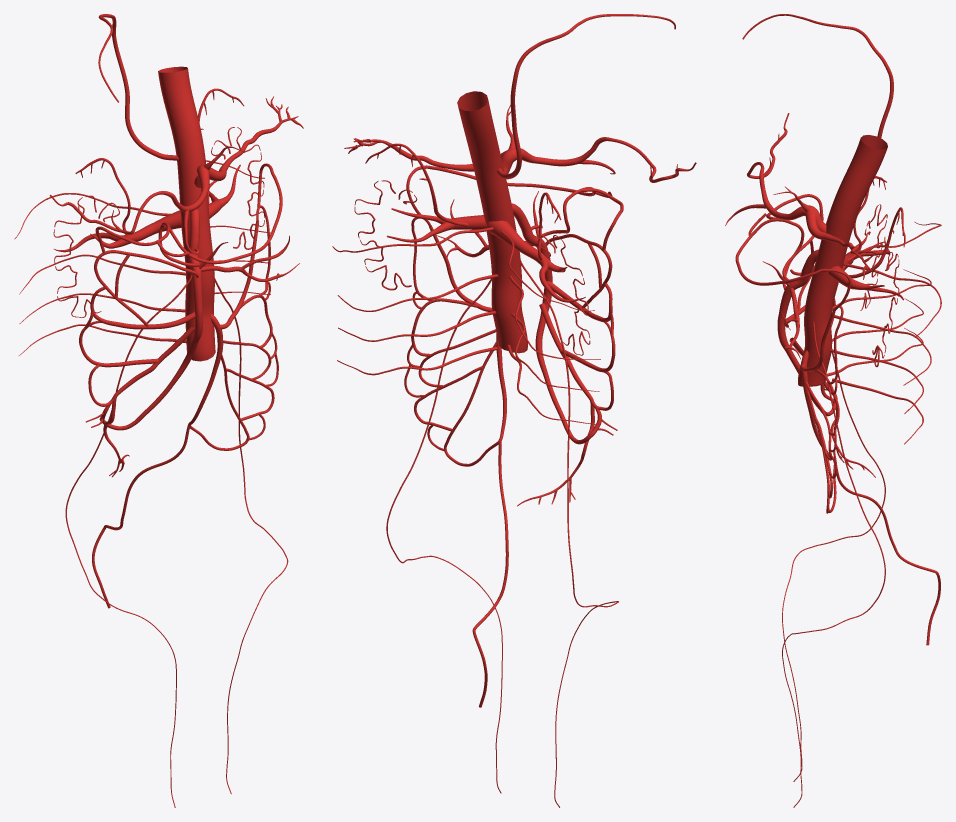
Rendered from circulatorio-abdominal-aorta.glb.
3 views of the same model, side by side, from view 1: azimuth 30°, elevation 25°; view 2: azimuth 150°, elevation 25°; view 3: azimuth 270°, elevation 25° (orthographic). The views are drawn at different scales.
Visible parts, largest first — view 1: Abdominal aorta, Superior mesenteric artery, Lumbar arteries.r, Anterior inferior pancreaticoduodenal artery, Sigmoid arteries, Inferior phrenic artery, Right testicular artery.r, Left testicular artery, Right colic artery, Marginal artery, Splenic artery, Superior anorectal artery (+6 smaller); view 2: Abdominal aorta, Superior mesenteric artery, Lumbar arteries.l, Sigmoid arteries, Inferior phrenic artery, Right testicular artery.r, Lumbar arteries.r, Anterior inferior pancreaticoduodenal artery, Left testicular artery, Superior anorectal artery, Marginal artery, Right renal artery (+3 smaller); view 3: Abdominal aorta, Superior mesenteric artery, Lumbar arteries.l, Anterior inferior pancreaticoduodenal artery, Lumbar arteries.r, Sigmoid arteries, Left testicular artery, Inferior phrenic artery, Right testicular artery.r, Splenic artery, Superior anorectal artery, Proper hepatic artery (+4 smaller).
Part boxes in pixels (x1,y1,x2,y2): Abdominal aorta: (158, 66, 215, 361); Superior mesenteric artery: (85, 209, 299, 430); Lumbar arteries.r: (14, 193, 186, 355); Anterior inferior pancreaticoduodenal artery: (95, 169, 282, 266); Sigmoid arteries: (190, 340, 278, 450); Inferior phrenic artery: (98, 14, 178, 160); Right testicular artery.r: (65, 274, 192, 807); Left testicular artery: (214, 278, 288, 794); Right colic artery: (90, 286, 195, 329); Marginal artery: (84, 163, 272, 406); Splenic artery: (209, 96, 303, 181); Superior anorectal artery: (92, 425, 189, 608); Abdominal aorta: (457, 91, 527, 353); Superior mesenteric artery: (436, 191, 617, 444); Lumbar arteries.l: (332, 227, 498, 375); Sigmoid arteries: (404, 329, 499, 466); Inferior phrenic artery: (497, 14, 675, 179); Right testicular artery.r: (520, 260, 618, 807); Lumbar arteries.r: (501, 230, 600, 424); Anterior inferior pancreaticoduodenal artery: (424, 165, 623, 250); Left testicular artery: (386, 278, 502, 793); Superior anorectal artery: (472, 441, 508, 707); Marginal artery: (406, 166, 613, 410); Right renal artery: (487, 220, 544, 262); Abdominal aorta: (798, 135, 887, 386); Superior mesenteric artery: (762, 249, 837, 416); Lumbar arteries.l: (830, 263, 941, 444); Anterior inferior pancreaticoduodenal artery: (735, 194, 825, 285); Lumbar arteries.r: (827, 221, 941, 376); Sigmoid arteries: (805, 381, 837, 513); Left testicular artery: (782, 321, 885, 807); Inferior phrenic artery: (742, 14, 893, 138); Right testicular artery.r: (782, 348, 885, 781); Splenic artery: (805, 208, 885, 279); Superior anorectal artery: (833, 461, 940, 645); Proper hepatic artery: (747, 113, 789, 206).
Bounding box in the file's own units: 0.2114 × 0.537 × 0.1431.
